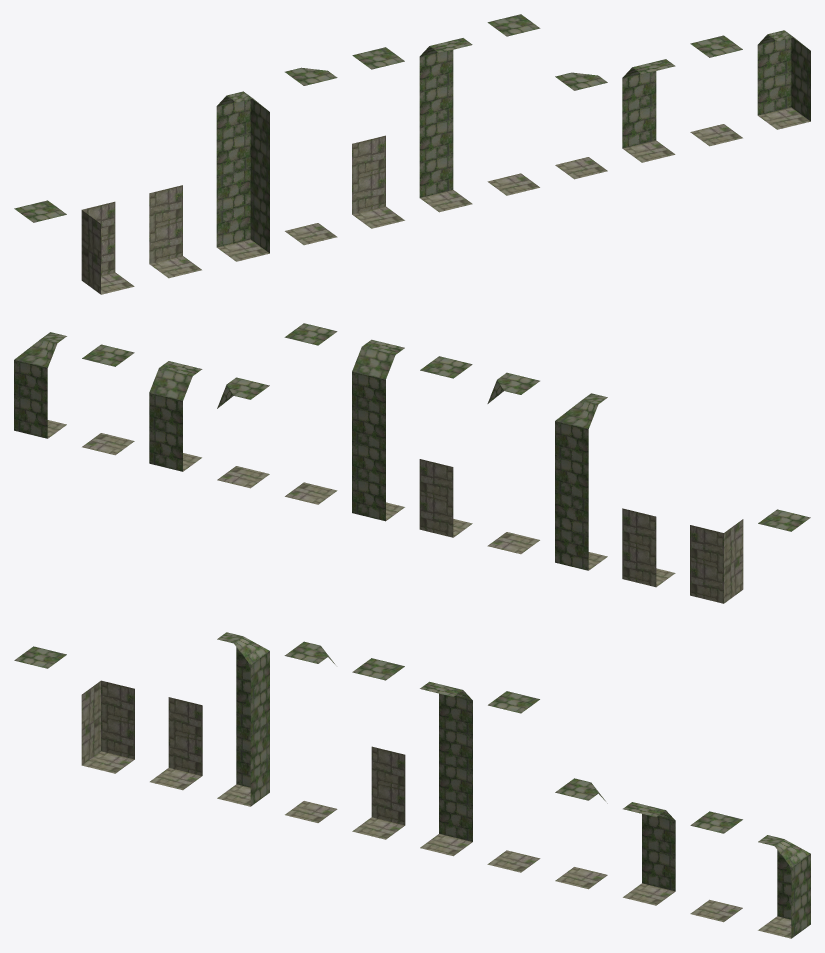
Rendered from tileset.glb.
3 views of the same model, one above another, from view 1: azimuth 30°, elevation 25°; view 2: azimuth 150°, elevation 25°; view 3: azimuth 330°, elevation 25° (orthographic).
Visible parts, largest first — view 1: corner-in-col.001, wall-high-col, corner-in-col, floor-wall-high-col, wall-col, pit-floor-wall-corner-col, pit-floor-wall-col, floor-col, floor-high-col, corner-out-col, corner-high-out-col, just-roof-col; view 2: wall-high-col, corner-in-col.001, wall-col, pit-floor-wall-corner-col, corner-in-col, floor-wall-high-col, pit-floor-wall-col, corner-out-col, corner-high-out-col, floor-col, floor-high-col, just-roof-col; view 3: wall-high-col, corner-in-col.001, pit-floor-wall-corner-col, floor-wall-high-col, wall-col, corner-in-col, pit-floor-wall-col, floor-high-col, floor-col, corner-high-out-col, corner-out-col, just-roof-col.
Boxes of the visible parts, x1,y1,x2,y2 form: corner-in-col.001: (216, 91, 269, 261); wall-high-col: (419, 38, 472, 212); corner-in-col: (757, 30, 810, 129); floor-wall-high-col: (352, 47, 404, 228); wall-col: (622, 59, 675, 162); pit-floor-wall-corner-col: (81, 201, 134, 294); pit-floor-wall-col: (149, 185, 201, 278); floor-col: (690, 35, 742, 146); floor-high-col: (487, 14, 540, 195); corner-out-col: (555, 72, 607, 179); corner-high-out-col: (285, 67, 337, 245); just-roof-col: (14, 200, 66, 222); wall-high-col: (352, 339, 404, 521); corner-in-col.001: (555, 393, 607, 570); wall-col: (149, 361, 202, 471); pit-floor-wall-corner-col: (690, 519, 743, 603); corner-in-col: (14, 332, 66, 438); floor-wall-high-col: (419, 356, 472, 537); pit-floor-wall-col: (622, 508, 675, 587); corner-out-col: (217, 377, 269, 488); corner-high-out-col: (487, 372, 539, 554); floor-col: (82, 344, 134, 455); floor-high-col: (284, 323, 337, 504); just-roof-col: (758, 509, 810, 531); wall-high-col: (420, 681, 472, 856); corner-in-col.001: (217, 632, 269, 806); pit-floor-wall-corner-col: (81, 680, 134, 773); floor-wall-high-col: (352, 658, 405, 839); wall-col: (623, 802, 675, 905); corner-in-col: (758, 835, 810, 938); pit-floor-wall-col: (150, 697, 202, 790); floor-high-col: (487, 691, 540, 872); floor-col: (690, 811, 742, 922); corner-high-out-col: (284, 641, 337, 822); corner-out-col: (555, 778, 607, 889); just-roof-col: (14, 646, 66, 668).
Bounding box in the file's own units: 23 × 4.5 × 1.
Materials: 2 (2 with a texture image).
